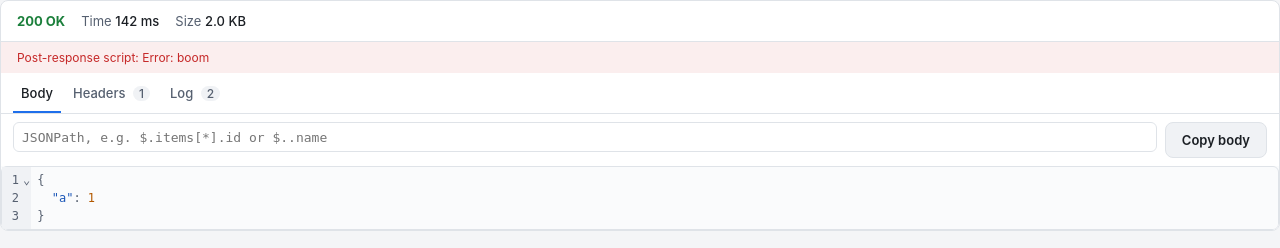
Test: ResponseViewer › shows what scripts logged and why the script after the response failed
This screenshot has width=1280, height=248.
Expected: the message reads "Post-response script: Error: boom", [17,50,209,65]
Click the tab "Log 2" at (195, 93), box [162,73,228,113]
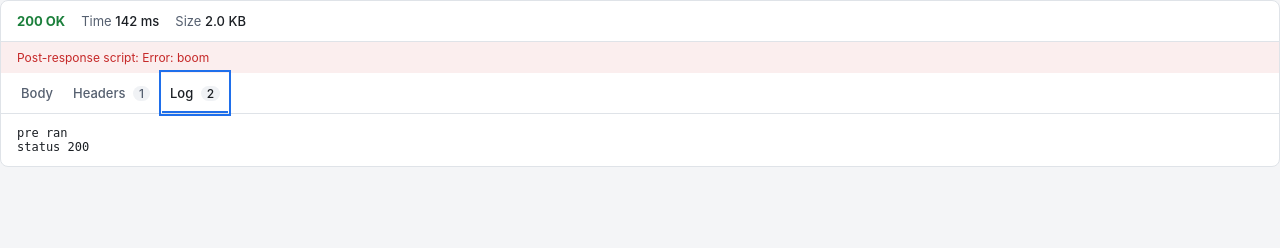
Expected: the text "pre ran status 200" is shown, [17,126,89,154]
